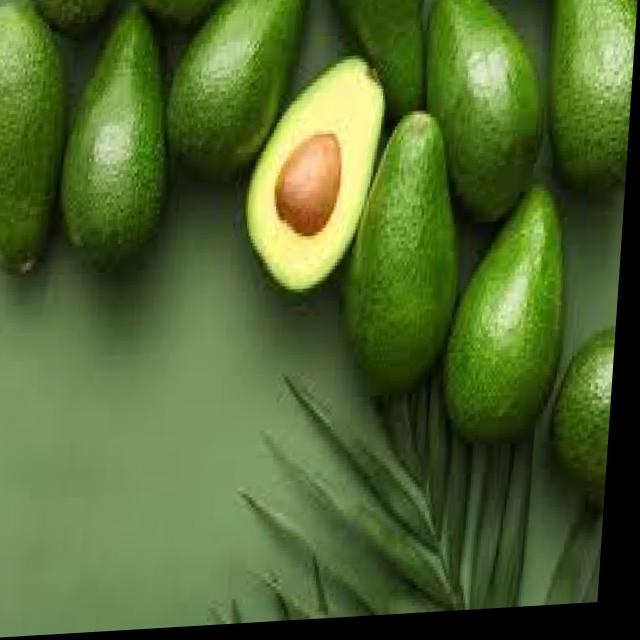Bo: (241, 53, 392, 305), (341, 118, 470, 395), (447, 194, 582, 446), (60, 0, 175, 291), (421, 0, 546, 236), (163, 0, 311, 181), (0, 0, 78, 286), (545, 0, 638, 195), (553, 329, 621, 497)
